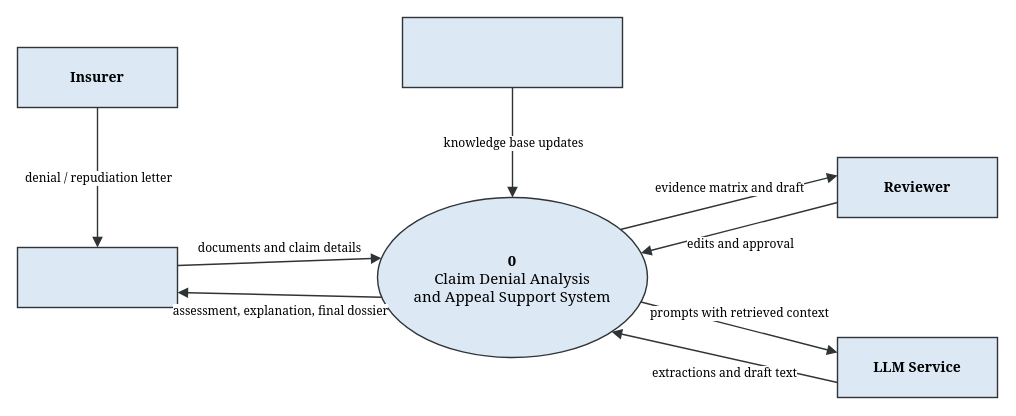
Some shapes in this 1016 by 416 pixel diagram are drawn without their labels. The shapes that lost their labels are listed below. From the top down, each one's centre as x and y in pixels, then its label:
At (512,52): "Public sources (policy wordings, code sets, IRDAI lists)".
At (97,277): "Policyholder".
